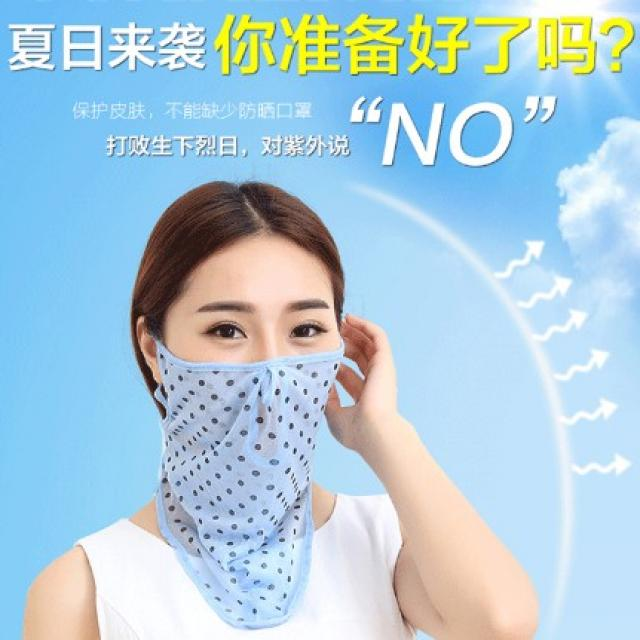mask: (160, 237, 344, 470)
